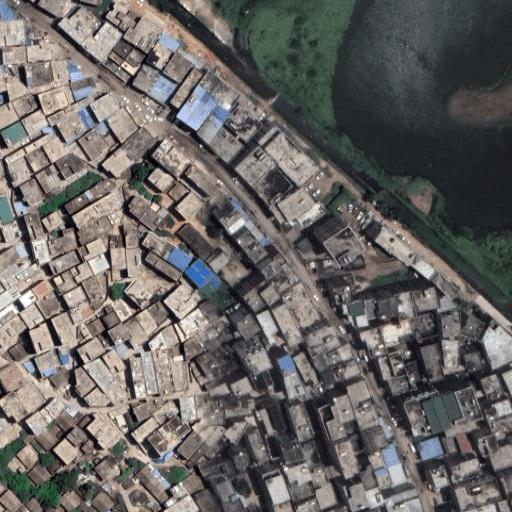building: (263, 129, 322, 190), (404, 389, 453, 437), (193, 71, 242, 117), (184, 161, 230, 206), (280, 284, 322, 333), (65, 177, 117, 216), (250, 164, 294, 207), (322, 225, 366, 268), (3, 131, 57, 166), (147, 413, 192, 455), (373, 227, 418, 269), (268, 186, 314, 227), (73, 191, 122, 229), (59, 3, 101, 46), (233, 145, 276, 187), (260, 252, 301, 296), (82, 18, 123, 62), (345, 381, 381, 431), (453, 477, 503, 512), (222, 103, 263, 145), (441, 386, 483, 427), (151, 139, 193, 179), (204, 124, 244, 164), (174, 91, 213, 132), (169, 65, 206, 108), (162, 280, 201, 320), (189, 424, 227, 465), (122, 17, 164, 54), (482, 318, 512, 369), (301, 323, 342, 359), (47, 95, 96, 125), (270, 304, 303, 348), (135, 467, 172, 505), (190, 402, 226, 441), (173, 307, 211, 342), (201, 348, 241, 381), (121, 125, 157, 161), (82, 357, 118, 393), (177, 224, 213, 260), (234, 229, 269, 266), (243, 279, 280, 314), (312, 344, 354, 374), (105, 105, 139, 142), (212, 200, 246, 237), (86, 412, 121, 447), (75, 215, 115, 245), (76, 127, 110, 162), (194, 106, 227, 142), (49, 310, 81, 347), (291, 351, 321, 390), (287, 404, 316, 444), (318, 402, 347, 442), (144, 250, 182, 280), (197, 454, 236, 483), (12, 381, 45, 415), (245, 428, 274, 466), (103, 146, 136, 179), (148, 73, 180, 106), (357, 326, 388, 360), (420, 342, 445, 384), (381, 446, 407, 486), (2, 155, 35, 186), (46, 226, 80, 256), (141, 230, 175, 260), (153, 349, 174, 397), (384, 488, 426, 512), (34, 289, 66, 320), (161, 52, 192, 84), (380, 319, 413, 349), (244, 220, 273, 254), (174, 190, 205, 221), (131, 62, 161, 94), (183, 257, 213, 289), (334, 439, 360, 475), (17, 175, 47, 206), (123, 280, 154, 310), (131, 416, 163, 445), (55, 112, 86, 141), (49, 250, 82, 277), (37, 86, 70, 113), (449, 458, 483, 484), (42, 134, 71, 164), (296, 200, 326, 229), (176, 430, 205, 460), (194, 324, 224, 353), (431, 271, 460, 301), (265, 473, 292, 505), (278, 437, 305, 469), (148, 325, 181, 351), (282, 368, 307, 402), (145, 462, 173, 492), (100, 346, 128, 376), (75, 337, 105, 365), (140, 351, 159, 395), (35, 348, 64, 376), (52, 437, 81, 465), (145, 42, 173, 71), (28, 322, 55, 352), (89, 94, 119, 121), (122, 316, 149, 346), (411, 286, 441, 313), (416, 436, 447, 462), (15, 441, 43, 469), (20, 109, 49, 136), (245, 348, 274, 375), (410, 314, 439, 341), (75, 237, 105, 263), (24, 62, 54, 88), (1, 77, 31, 103), (35, 163, 60, 194), (129, 356, 147, 399), (74, 365, 97, 398), (55, 153, 83, 180), (24, 146, 51, 174), (255, 307, 280, 337), (345, 482, 370, 512), (67, 299, 95, 325), (0, 20, 26, 48), (283, 462, 311, 488), (154, 399, 180, 427), (267, 404, 291, 434), (488, 442, 512, 472), (52, 269, 79, 295), (12, 93, 39, 119), (429, 464, 455, 491), (410, 256, 437, 282), (314, 483, 339, 511), (332, 358, 360, 383), (225, 416, 249, 445), (94, 455, 120, 481), (125, 194, 151, 220), (18, 304, 45, 329), (375, 296, 399, 324), (299, 439, 322, 468), (394, 292, 417, 321), (169, 360, 189, 393), (257, 124, 283, 149), (230, 447, 256, 472), (178, 336, 204, 361), (198, 274, 224, 299), (148, 166, 174, 191), (235, 315, 260, 341), (307, 462, 331, 489), (251, 368, 275, 395), (334, 395, 356, 424), (24, 213, 45, 243), (165, 494, 200, 512), (441, 309, 462, 339), (139, 207, 164, 232), (476, 434, 501, 459), (61, 285, 87, 309), (206, 434, 230, 460), (200, 299, 224, 325), (166, 247, 192, 271), (462, 316, 486, 342), (230, 375, 257, 398), (444, 421, 478, 439), (58, 488, 83, 512), (26, 411, 50, 436), (34, 428, 59, 452), (206, 249, 230, 273), (365, 430, 389, 454), (388, 373, 412, 397), (104, 382, 127, 407), (289, 481, 315, 503), (364, 485, 386, 511), (454, 433, 476, 459), (403, 359, 425, 385), (482, 374, 504, 400), (0, 190, 15, 228), (37, 0, 68, 18), (214, 480, 238, 503), (166, 181, 189, 205), (70, 78, 95, 100), (77, 105, 99, 130), (91, 490, 116, 512), (133, 400, 158, 422), (81, 275, 103, 300), (31, 239, 51, 266), (442, 338, 460, 368), (483, 407, 502, 435), (49, 365, 72, 388), (28, 463, 51, 486), (53, 409, 76, 432), (134, 308, 157, 331), (30, 278, 54, 300), (40, 210, 64, 232), (70, 261, 94, 283), (296, 233, 320, 255), (224, 400, 255, 417), (228, 197, 249, 222), (358, 465, 379, 490), (1, 46, 27, 66), (83, 386, 109, 406), (190, 360, 210, 386), (65, 426, 88, 448), (147, 299, 169, 322), (108, 322, 130, 345), (257, 409, 275, 437), (209, 381, 234, 401), (25, 46, 52, 64), (88, 253, 110, 275), (463, 350, 484, 373), (179, 395, 198, 420), (334, 257, 365, 272), (126, 248, 142, 277), (86, 317, 108, 338), (435, 295, 458, 315), (196, 394, 213, 421), (52, 60, 70, 85), (388, 351, 406, 376), (45, 397, 66, 418), (109, 248, 128, 271), (374, 466, 393, 489), (94, 269, 110, 296), (378, 356, 396, 380), (125, 48, 146, 68), (101, 310, 122, 330), (158, 33, 180, 52), (95, 330, 115, 350), (67, 60, 85, 82), (294, 498, 322, 512), (19, 289, 39, 308), (168, 483, 188, 502), (276, 355, 296, 374), (493, 399, 512, 419), (64, 403, 83, 422), (76, 412, 95, 431), (334, 286, 353, 305), (113, 39, 133, 57), (213, 315, 233, 333), (124, 225, 139, 249), (223, 496, 245, 512), (500, 472, 512, 501), (8, 343, 27, 361), (107, 49, 126, 67), (261, 333, 280, 351), (320, 368, 338, 387), (441, 437, 459, 456), (369, 451, 386, 471), (95, 119, 113, 137), (308, 260, 335, 272), (0, 2, 16, 22), (364, 298, 378, 320), (501, 370, 512, 398), (355, 451, 372, 469), (167, 346, 186, 362), (108, 405, 128, 420), (379, 416, 392, 439), (78, 436, 95, 453), (349, 300, 366, 317), (114, 66, 132, 82), (120, 59, 138, 75), (114, 339, 132, 355), (108, 233, 126, 249), (273, 499, 295, 512), (25, 498, 45, 512), (78, 324, 93, 341), (254, 398, 279, 408), (39, 408, 54, 424), (344, 420, 360, 435), (500, 415, 512, 434), (138, 439, 153, 454), (102, 58, 118, 72), (78, 498, 94, 512), (14, 201, 27, 218), (152, 396, 167, 410), (90, 295, 105, 309), (263, 469, 282, 480), (115, 414, 129, 428), (24, 360, 37, 375), (39, 124, 54, 137), (144, 323, 159, 335), (157, 206, 170, 219), (357, 315, 369, 328), (238, 494, 249, 508), (124, 412, 135, 425), (110, 142, 122, 153), (125, 387, 136, 399), (128, 337, 138, 349), (344, 471, 357, 480), (349, 276, 355, 295), (56, 428, 66, 439), (79, 0, 101, 5), (0, 160, 6, 177), (17, 464, 27, 474), (157, 220, 167, 230), (116, 452, 125, 462), (104, 305, 114, 314), (107, 506, 118, 512), (186, 459, 194, 467), (93, 459, 101, 466), (91, 469, 98, 475)
